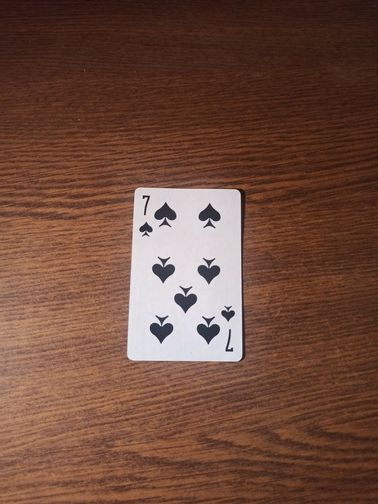sevenspades: (128, 186, 246, 363)
